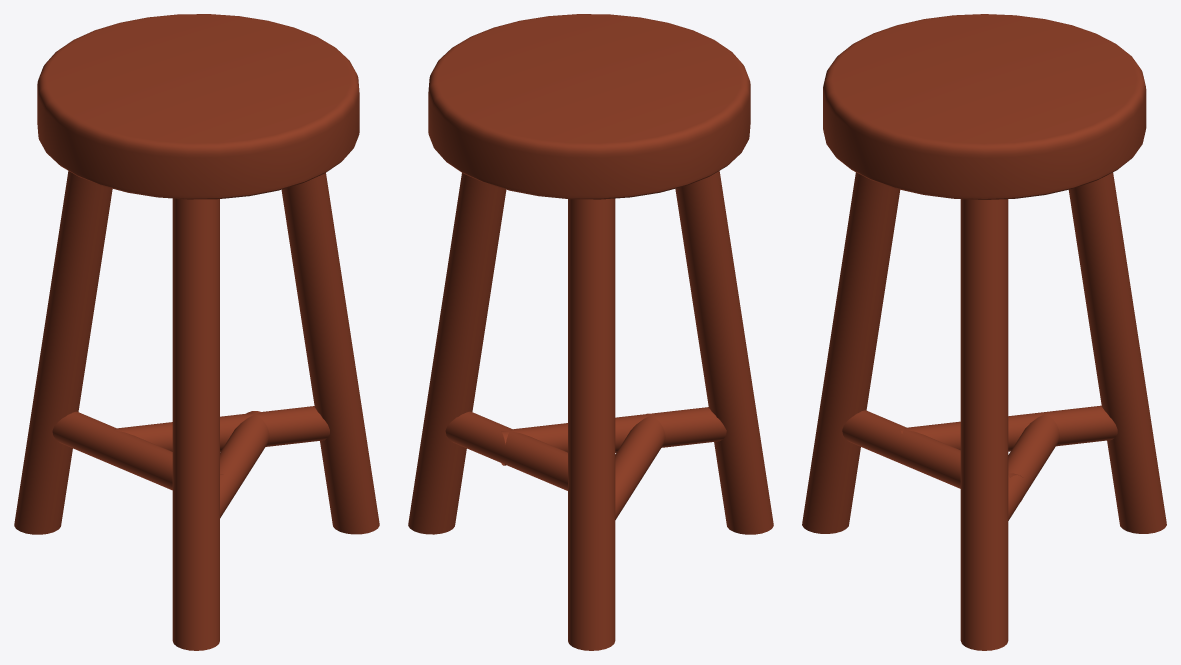
File: N_Stool.fbx
The picture shows the model from 3 angles, left to right: view 1: azimuth 30°, elevation 25°; view 2: azimuth 150°, elevation 25°; view 3: azimuth 270°, elevation 25°; orthographic projection.
Visible parts, largest first — view 1: Cylinder001; view 2: Cylinder001; view 3: Cylinder001.
Part boxes in pixels (x1,y1,x2,y2): Cylinder001: [14, 14, 379, 650]; Cylinder001: [408, 14, 773, 650]; Cylinder001: [802, 14, 1166, 650].
Bounding box in the file's own units: 30.97 × 45 × 30.72.
